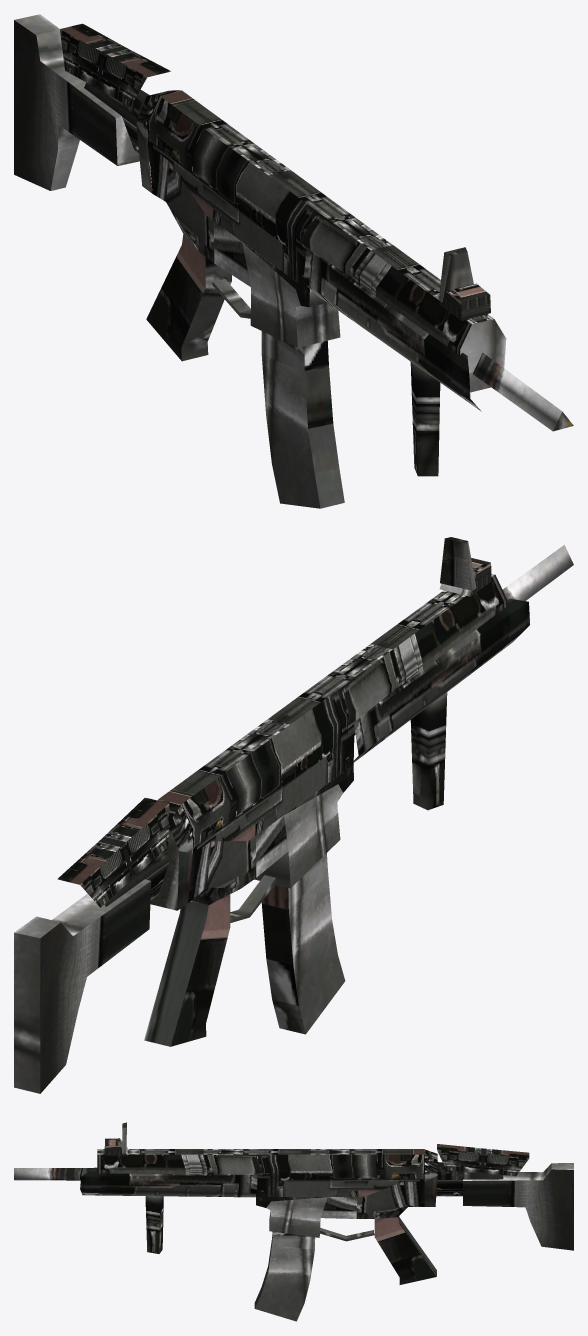
The model's file is Assault_Rifle_ACR_Rifle_Body_LOD_(000218).glb.
3 views of the same model, one above another, from view 1: azimuth 30°, elevation 25°; view 2: azimuth 150°, elevation 25°; view 3: azimuth 270°, elevation 25° (orthographic). The views are drawn at different scales.
Parts seen in each view (by area): view 1: pw_1053_ACR_dj_LOD2; view 2: pw_1053_ACR_dj_LOD2; view 3: pw_1053_ACR_dj_LOD2.
Part boxes in pixels (left/top/right/bottom): pw_1053_ACR_dj_LOD2: left=14, top=14, right=573, bottom=508; pw_1053_ACR_dj_LOD2: left=14, top=537, right=573, bottom=1093; pw_1053_ACR_dj_LOD2: left=14, top=1122, right=573, bottom=1321.
Size of the model in its own units: 0.0571 by 0.3544 by 0.9309.
Materials: 1 (1 with a texture image).
